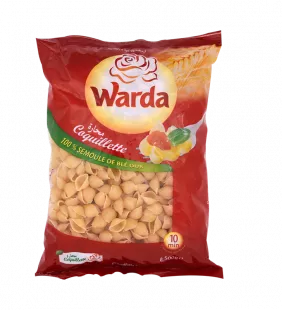LA ROSE BLANCHE: (28, 21, 228, 284)
